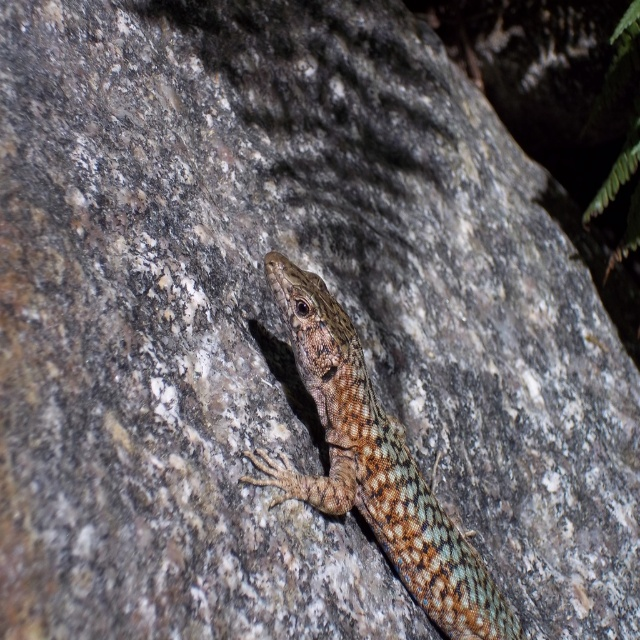Lizard: (244, 243, 528, 628)
